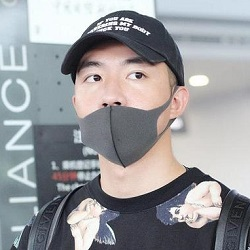mask: (74, 95, 168, 170)
